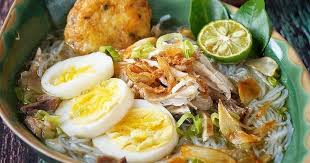soto: (8, 1, 305, 163)
